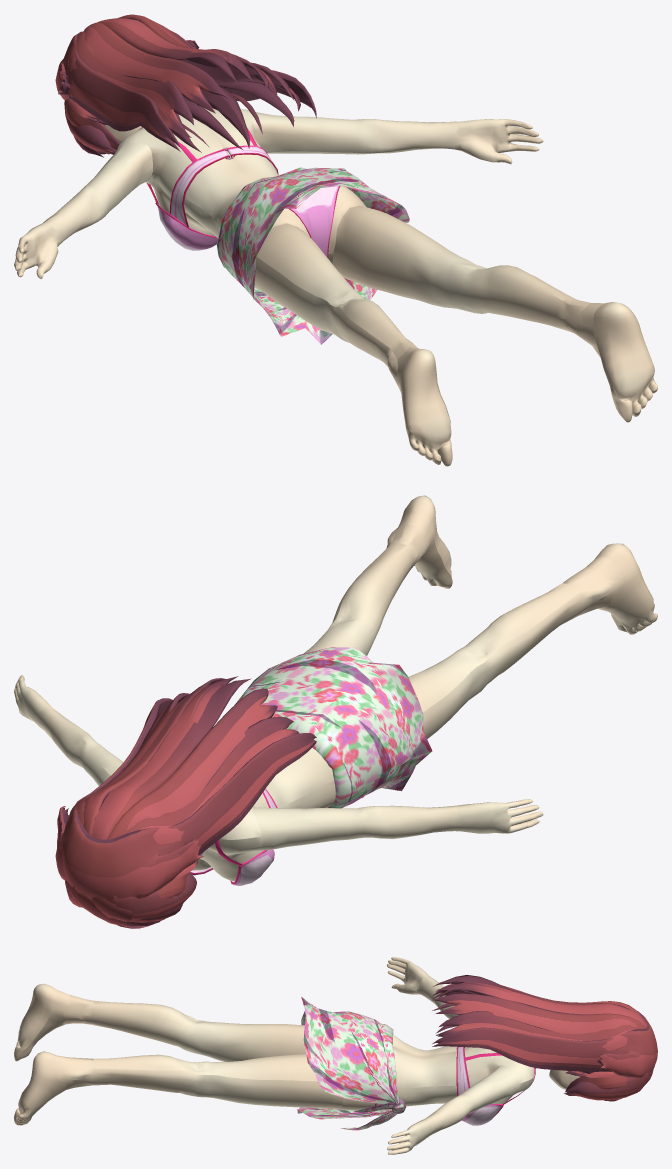
The model's file is 09.bikini girl.glb.
3 renders of one model, top to bottom at view 1: azimuth 30°, elevation 25°; view 2: azimuth 150°, elevation 25°; view 3: azimuth 270°, elevation 25°, orthographic. The views are drawn at different scales.
Parts seen in each view (by area): view 1: 151d8d68.o, 152edd18.o, 151e04c0.o, 151db530.o, 151e2c28.o, 151240b8.o, 1437ead0.o, 2a65388.ob, 57e27d0.ob, 2a67748.ob; view 2: 151d8d68.o, 152edd18.o, 151e2c28.o, 151240b8.o, 1437ead0.o, 151db530.o, 151e04c0.o, 57e27d0.ob, 2a65388.ob; view 3: 151d8d68.o, 152edd18.o, 151e2c28.o, 151240b8.o, 151db530.o, 151e04c0.o, 57e27d0.ob, 1437ead0.o, 2a65388.ob, 4e16810.ob, 154b97c8.o.
Part boxes in pixels (<box>): 151d8d68.o: <box>254,205,657,466</box>; 152edd18.o: <box>68,14,300,137</box>; 151e04c0.o: <box>252,112,542,163</box>; 151db530.o: <box>115,108,366,263</box>; 151e2c28.o: <box>216,167,409,344</box>; 151240b8.o: <box>55,31,316,152</box>; 1437ead0.o: <box>14,142,153,278</box>; 2a65388.ob: <box>139,127,340,258</box>; 57e27d0.ob: <box>64,98,119,157</box>; 2a67748.ob: <box>291,186,338,256</box>; 151d8d68.o: <box>303,495,657,738</box>; 152edd18.o: <box>68,676,299,844</box>; 151e2c28.o: <box>235,647,432,808</box>; 151240b8.o: <box>55,698,316,900</box>; 1437ead0.o: <box>252,799,542,851</box>; 151db530.o: <box>192,748,335,881</box>; 151e04c0.o: <box>14,675,123,785</box>; 57e27d0.ob: <box>65,860,197,928</box>; 2a65388.ob: <box>190,789,277,885</box>; 151d8d68.o: <box>14,983,343,1125</box>; 152edd18.o: <box>432,975,647,1051</box>; 151e2c28.o: <box>297,997,399,1119</box>; 151240b8.o: <box>432,990,657,1077</box>; 151db530.o: <box>341,1034,536,1110</box>; 151e04c0.o: <box>387,1065,518,1154</box>; 57e27d0.ob: <box>564,1069,653,1101</box>; 1437ead0.o: <box>387,957,458,1018</box>; 2a65388.ob: <box>375,1046,535,1125</box>; 4e16810.ob: <box>340,1097,405,1130</box>; 154b97c8.o: <box>550,1069,580,1088</box>.
Size of the model in its own units: 29.92 by 10.67 by 44.12.
Materials: 10 (4 with a texture image).
